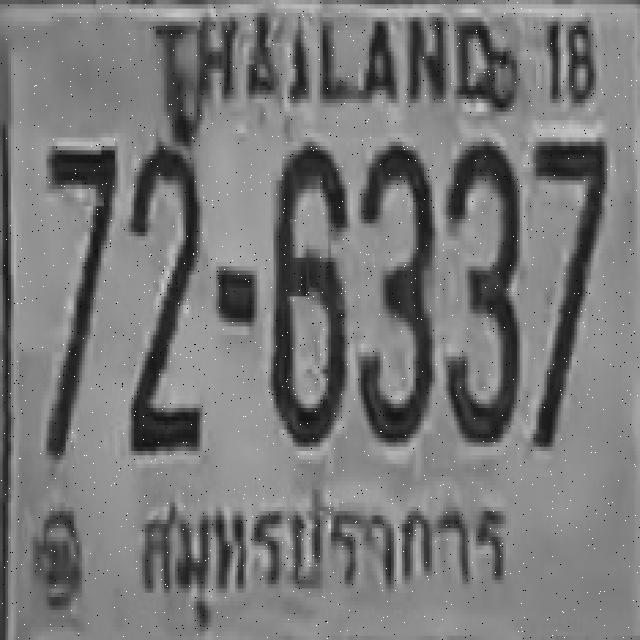2: (127, 144, 201, 449)
3: (357, 142, 433, 442), (446, 138, 520, 442)
6: (270, 142, 346, 442)
7: (532, 137, 606, 447), (45, 144, 116, 458), (48, 144, 116, 432), (48, 144, 116, 354)
SamutPrakan: (132, 473, 514, 632)
